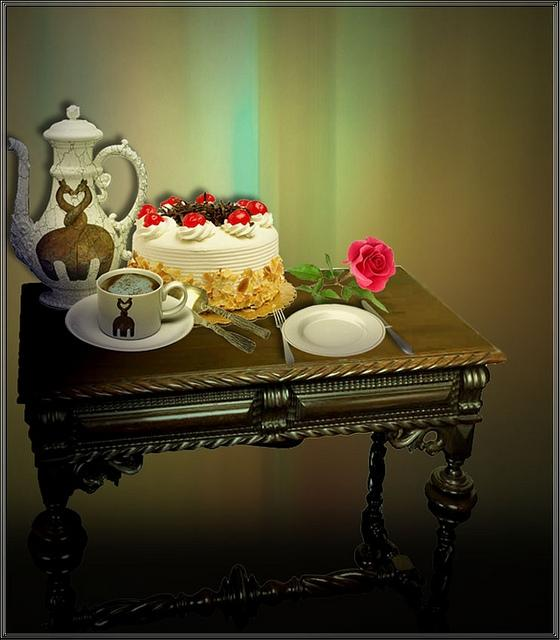cherry: (227, 210, 250, 226), (183, 213, 206, 228), (247, 200, 268, 216), (138, 204, 158, 220), (143, 213, 164, 228), (195, 194, 216, 204), (236, 199, 250, 208), (168, 197, 181, 204)
